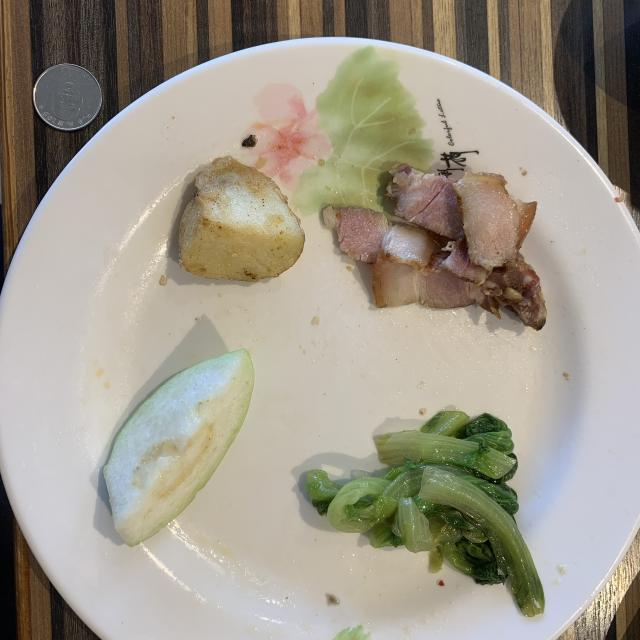coin: (32, 64, 101, 131)
fried potato: (179, 156, 305, 281)
grilled pork: (322, 164, 546, 329)
guava -sliced-: (104, 349, 254, 546)
mustard greens: (306, 410, 544, 616)
